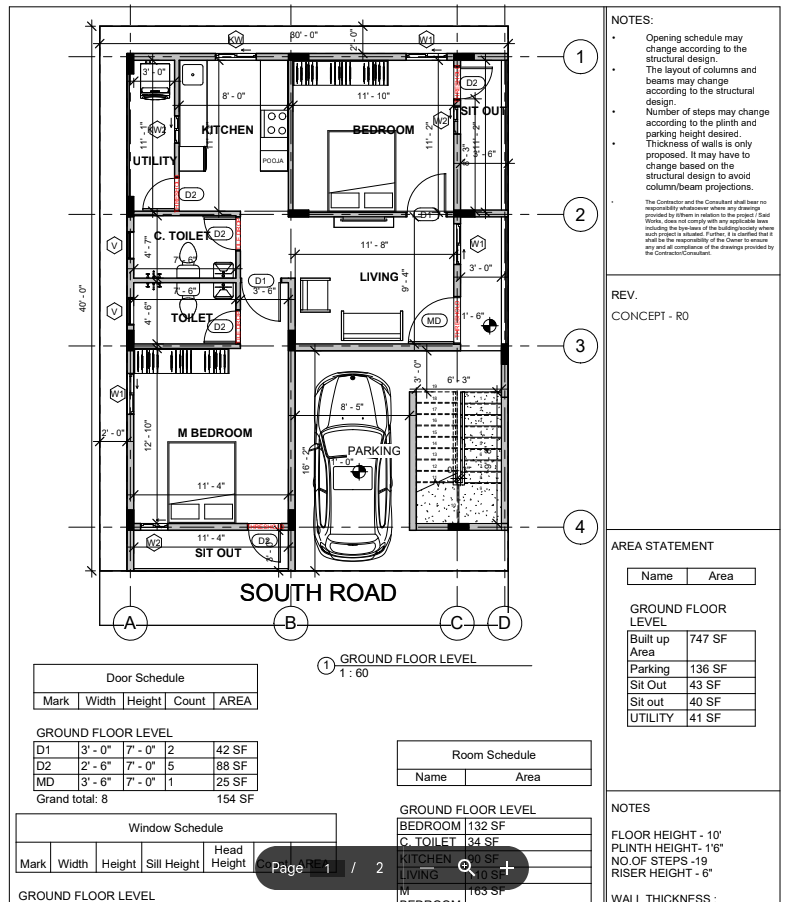door: (408, 297, 459, 346), (240, 278, 284, 325), (405, 174, 449, 215), (203, 212, 240, 253), (457, 63, 494, 104), (246, 526, 282, 567), (140, 176, 179, 211), (203, 311, 240, 345)
